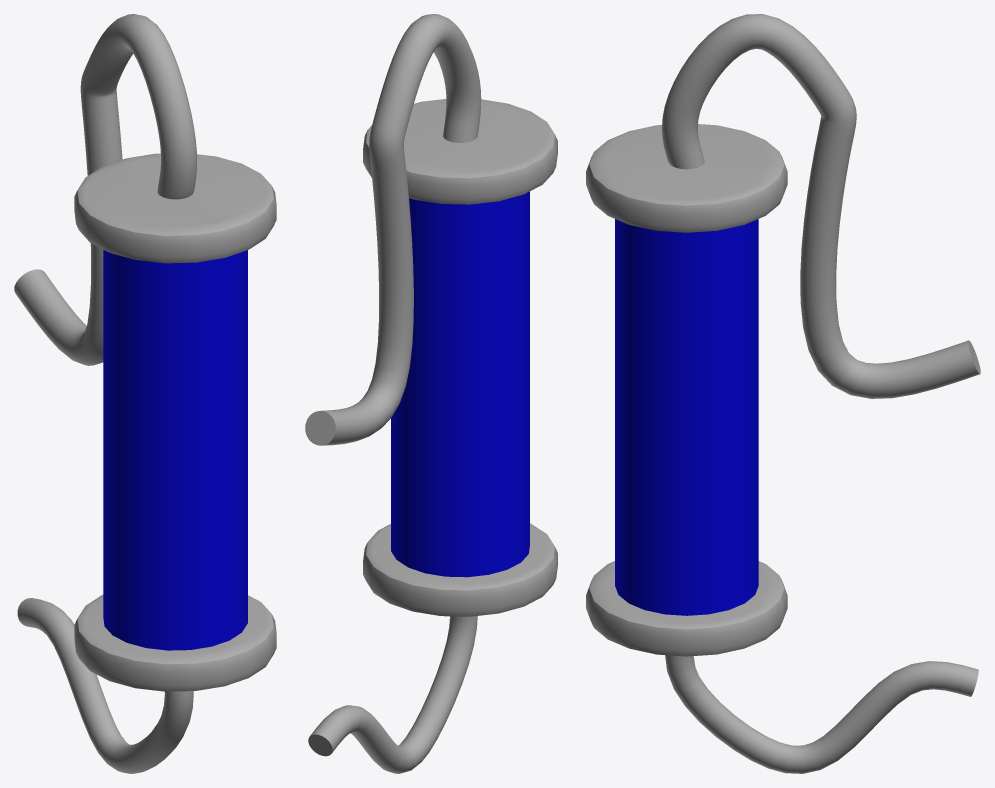
File: jauge.fbx
3 views of the same model, side by side, from view 1: azimuth 30°, elevation 25°; view 2: azimuth 150°, elevation 25°; view 3: azimuth 270°, elevation 25° (orthographic). The views are drawn at different scales.
Visible parts, largest first — view 1: verre1, cuivre1; view 2: cuivre1, verre1; view 3: cuivre1, verre1.
Boxes of the visible parts, <box> form: verre1: <box>103,250,247,650</box>; cuivre1: <box>14,14,276,773</box>; cuivre1: <box>305,14,557,773</box>; verre1: <box>391,191,529,577</box>; cuivre1: <box>586,14,980,773</box>; verre1: <box>615,219,758,615</box>.
Bounding box in the file's own units: 2.8 × 11.62 × 5.49.
